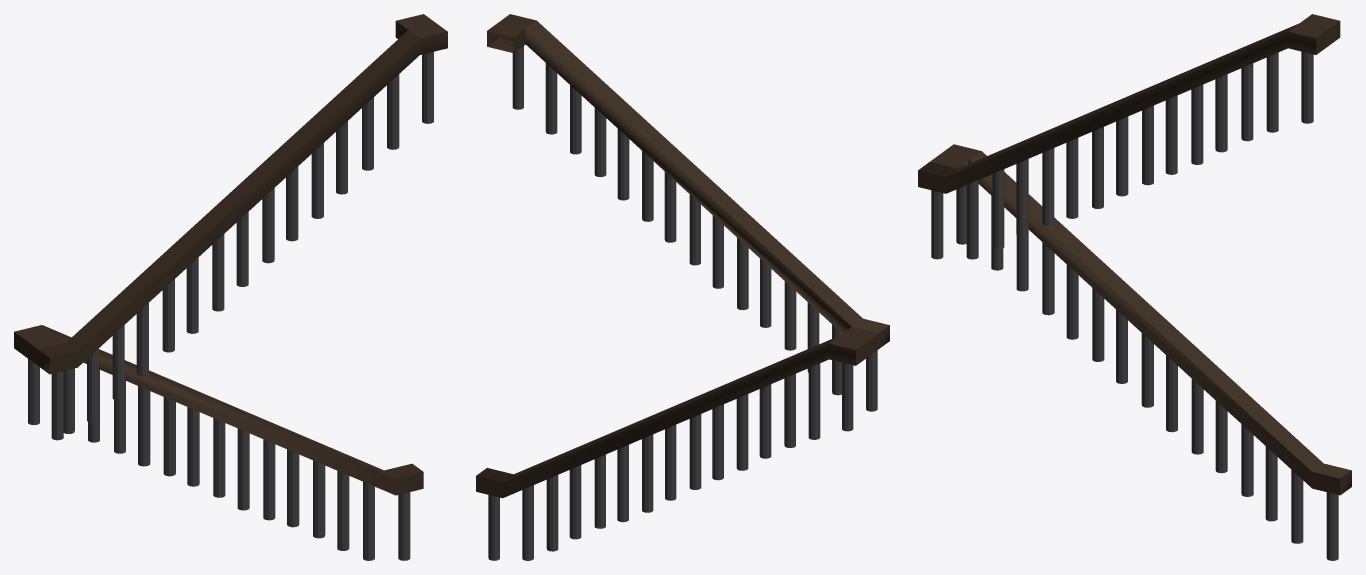
Rendered from Stair_Railing.fbx.
The picture shows the model from 3 angles, left to right: view 1: azimuth 30°, elevation 25°; view 2: azimuth 150°, elevation 25°; view 3: azimuth 330°, elevation 25°; orthographic projection. The views are drawn at different scales.
Visible parts, largest first — view 1: Kinder3_Stair__5_.002; view 2: Kinder3_Stair__5_.002; view 3: Kinder3_Stair__5_.002.
Part boxes in pixels (<box>): Kinder3_Stair__5_.002: <box>14,14,447,560</box>; Kinder3_Stair__5_.002: <box>476,14,889,560</box>; Kinder3_Stair__5_.002: <box>918,14,1351,560</box>.
Bounding box in the file's own units: 289 × 379 × 44.82.
